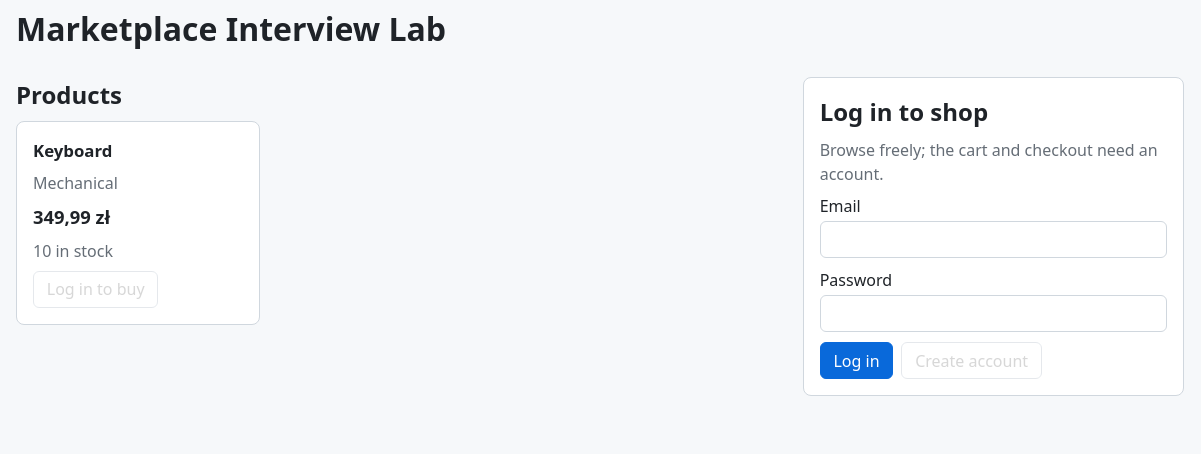
Test: App authentication › registers a new account and is logged in right away
Expected: the heading "Log in to shop" is shown, [820,95,988,128]
Type "bob@example.com" into the field labelled "Email". click: (993, 240)
box: [820,221,1167,258]
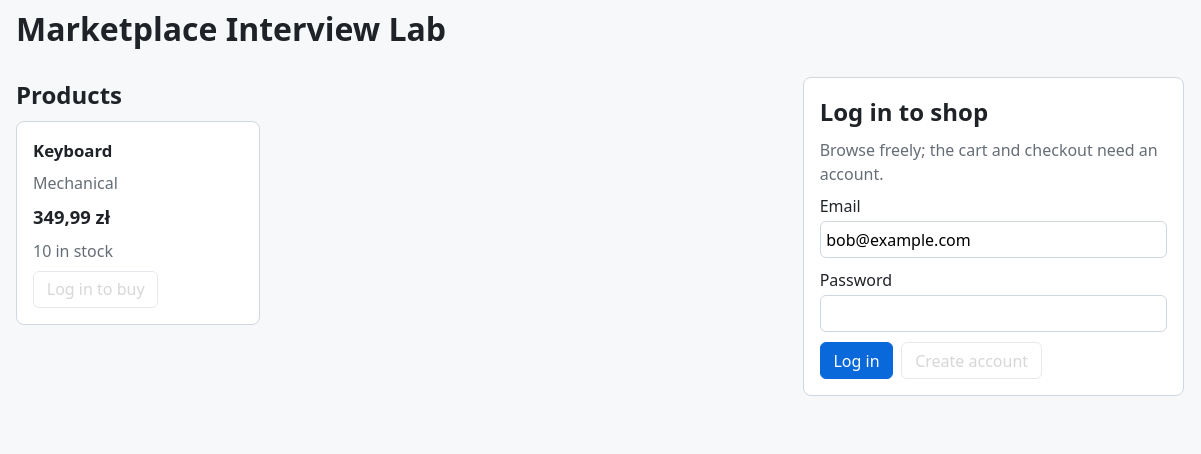
Type "a long enough password" into the password field labelled "Password". click: (993, 314)
box: [820,295,1167,332]
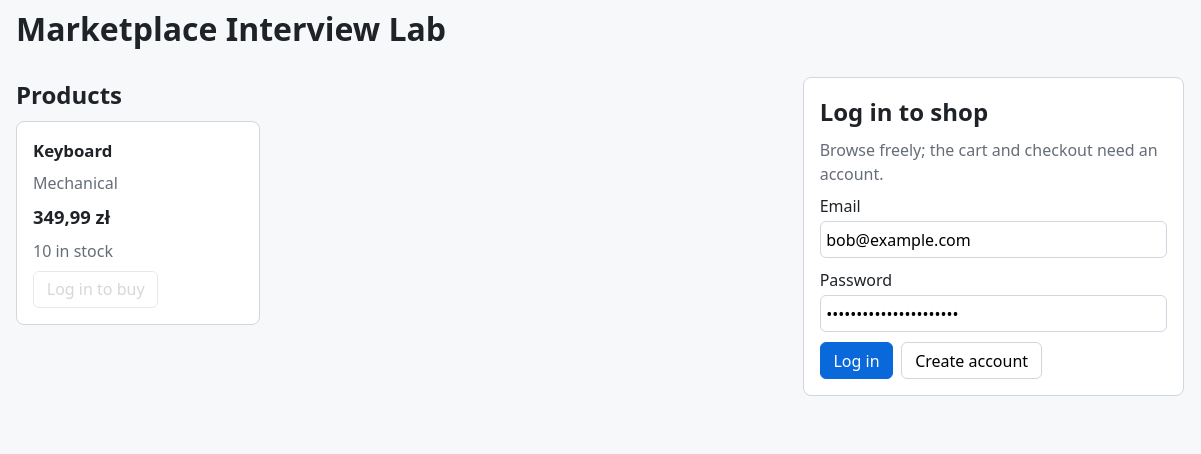
Click the button "Create account". click: (972, 360)
box: [901,342,1042,379]
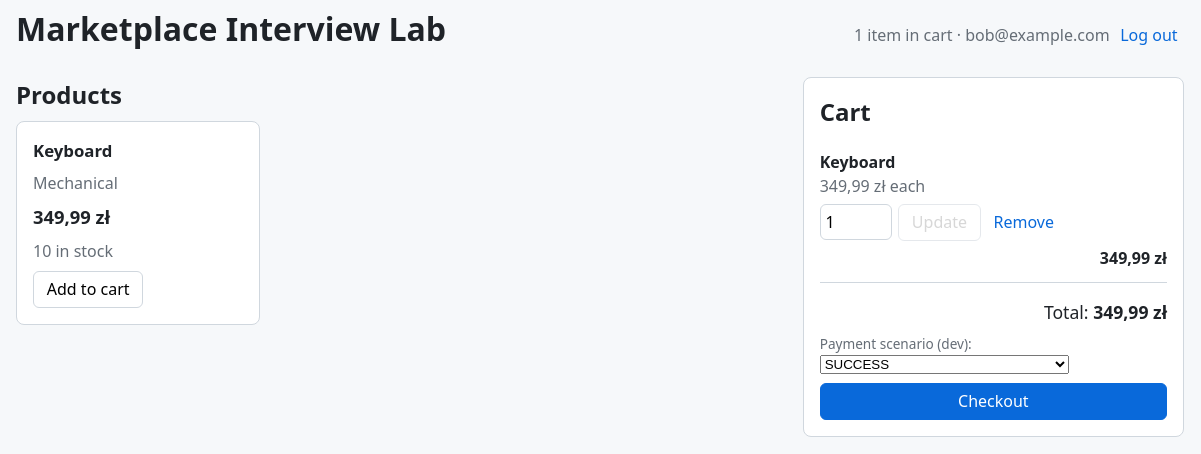
Expected: the text "1 item in cart · bob@example.com Log out" is shown, [854,17,1184,53]
